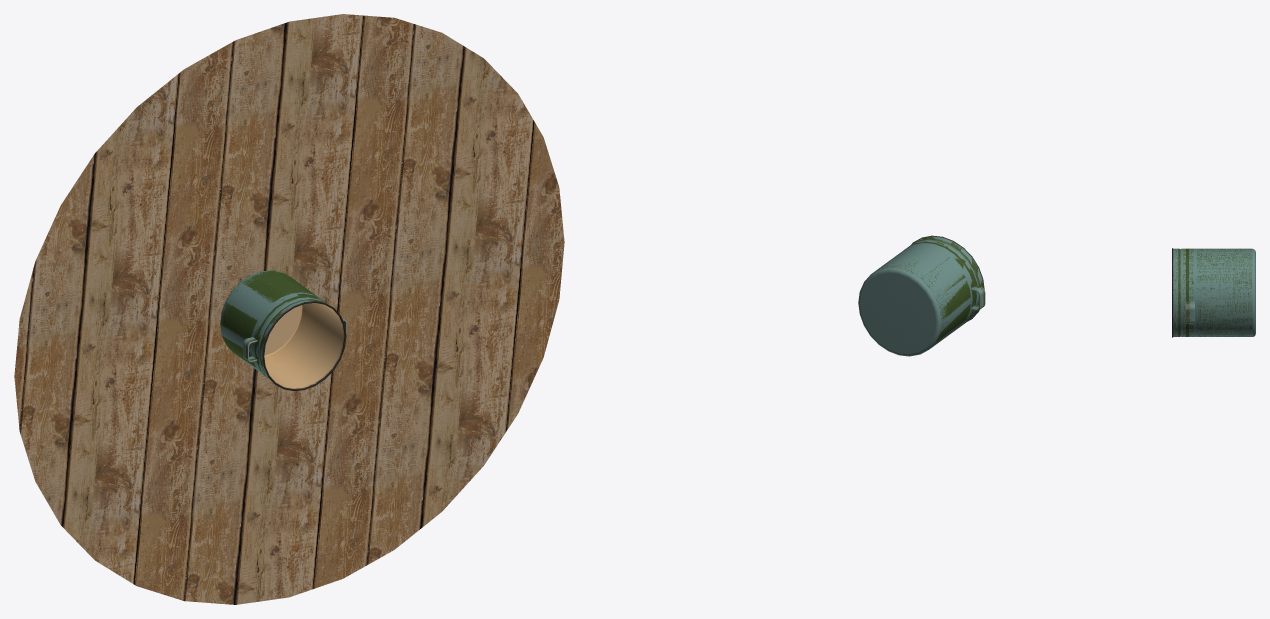
The model's file is kitchen-pot-22701f.glb.
The picture shows the model from 3 angles, left to right: view 1: azimuth 30°, elevation 25°; view 2: azimuth 150°, elevation 25°; view 3: azimuth 270°, elevation 25°; orthographic projection. The views are drawn at different scales.
Visible parts, largest first — view 1: PropMesh; view 2: PropMesh; view 3: PropMesh.
Part boxes in pixels (<box>): PropMesh: <box>14,14,564,604</box>; PropMesh: <box>858,235,985,356</box>; PropMesh: <box>1172,248,1255,337</box>.
Size of the model in its own units: 2 by 2 by 0.2835.
3 materials, 3 textured.
